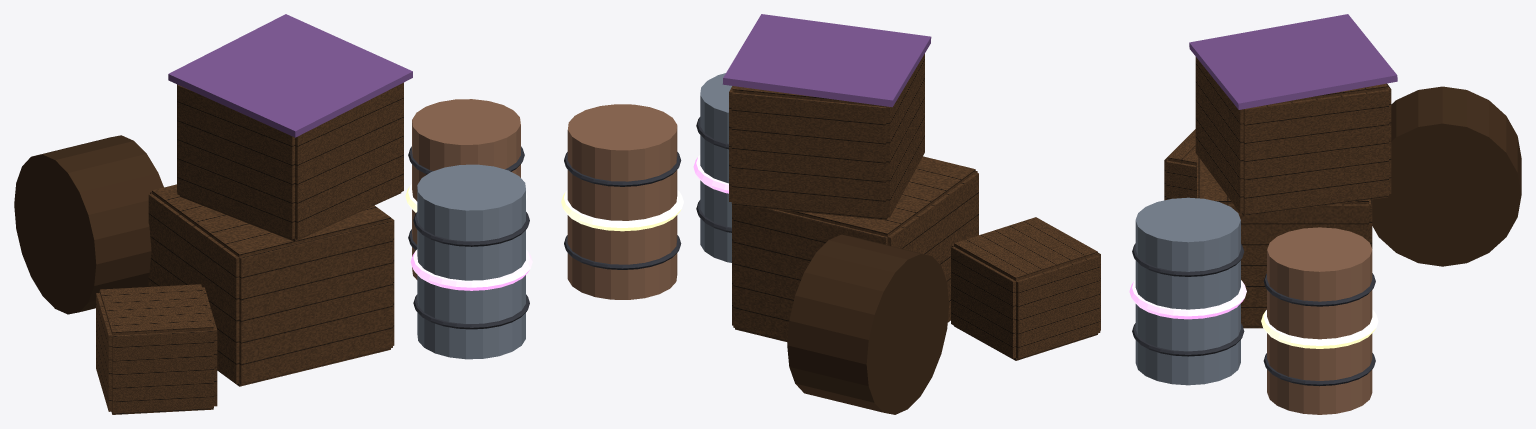
Rendered from roof_crates.glb.
3 views of the same model, side by side, from view 1: azimuth 30°, elevation 25°; view 2: azimuth 150°, elevation 25°; view 3: azimuth 270°, elevation 25° (orthographic). The views are drawn at different scales.
Visible parts, largest first — view 1: Crate.001, Barrel, Tarp, Barrel.001, Barrel hoop, Barrel stripe; view 2: Crate.001, Barrel.001, Tarp, Barrel, Barrel hoop, Barrel stripe.001; view 3: Crate.001, Barrel.001, Barrel, Tarp, Barrel hoop, Barrel stripe, Barrel stripe.001.
Boxes of the visible parts, box(x1,y1,x2,y2) form: Crate.001: box(14, 82, 403, 414); Barrel: box(417, 164, 525, 359); Tarp: box(168, 14, 412, 137); Barrel.001: box(412, 99, 520, 279); Barrel hoop: box(408, 146, 529, 329); Barrel stripe: box(410, 249, 532, 290); Crate.001: box(729, 54, 1100, 414); Barrel.001: box(567, 104, 677, 299); Tarp: box(722, 14, 931, 107); Barrel: box(700, 73, 731, 262); Barrel hoop: box(564, 117, 731, 269); Barrel stripe.001: box(561, 190, 683, 231); Crate.001: box(1164, 57, 1521, 328); Barrel.001: box(1267, 227, 1372, 414); Barrel: box(1135, 197, 1240, 385); Tarp: box(1189, 14, 1397, 109); Barrel hoop: box(1132, 243, 1375, 386); Barrel stripe: box(1129, 280, 1246, 319); Barrel stripe.001: box(1261, 309, 1378, 348).
Bounding box in the file's own units: 2.97 × 1.58 × 2.23.
Materials: 8 (1 with a texture image).
